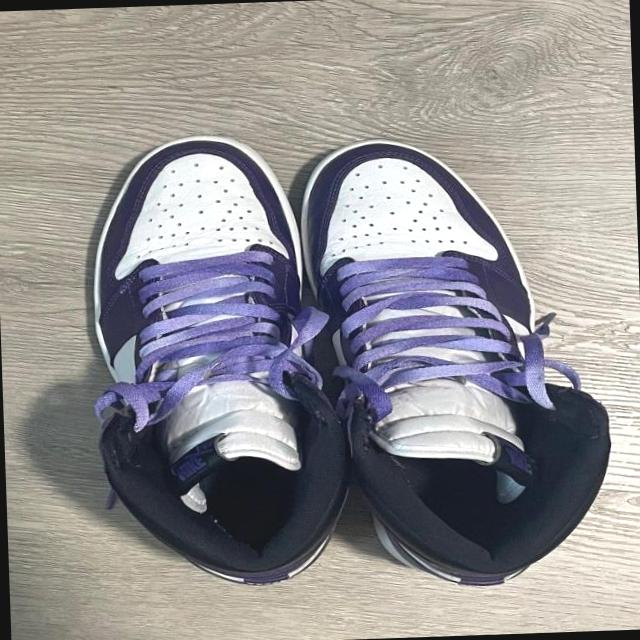nike_original_jordan: (298, 133, 620, 590), (82, 128, 352, 588)
